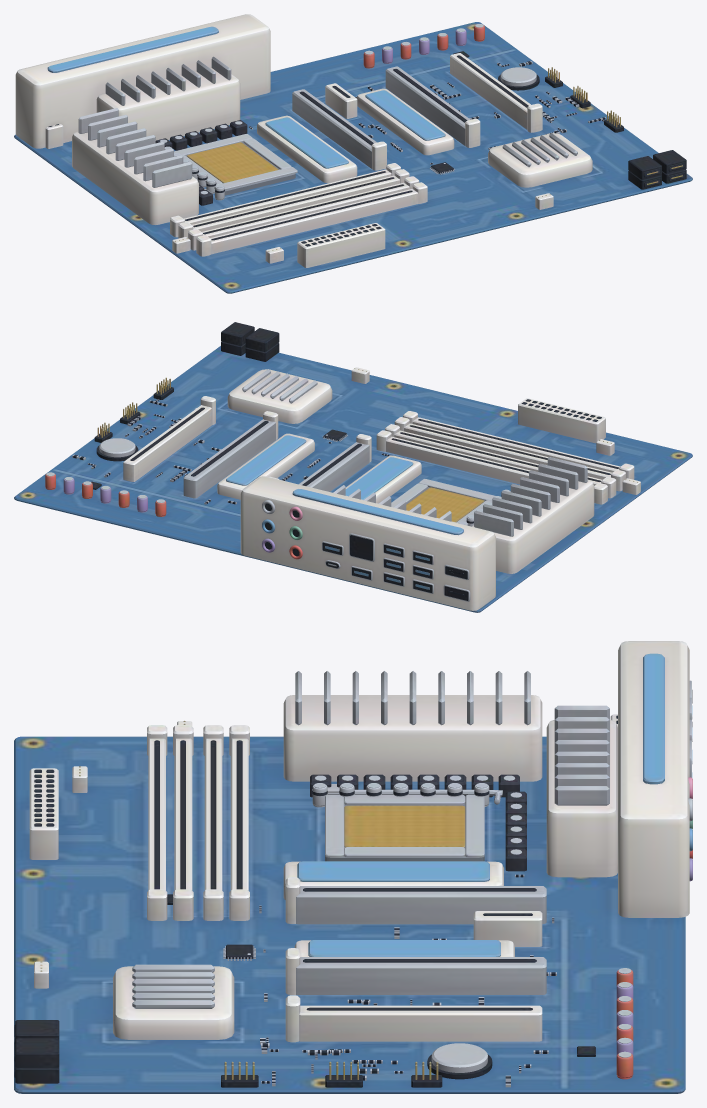
File: motherboard.glb
3 views of the same model, one above another, from view 1: azimuth 30°, elevation 25°; view 2: azimuth 150°, elevation 25°; view 3: azimuth 270°, elevation 25° (orthographic). The views are drawn at different scales.
Parts seen in each view (by area): view 1: motherboard_body; view 2: motherboard_body; view 3: motherboard_body.
Part boxes in pixels (x1,y1,x2,y2): motherboard_body: [14, 14, 692, 293]; motherboard_body: [14, 322, 692, 612]; motherboard_body: [14, 641, 692, 1093].
Bounding box in the file's own units: 0.305 × 0.043 × 0.2467.
1 material, 1 textured.
